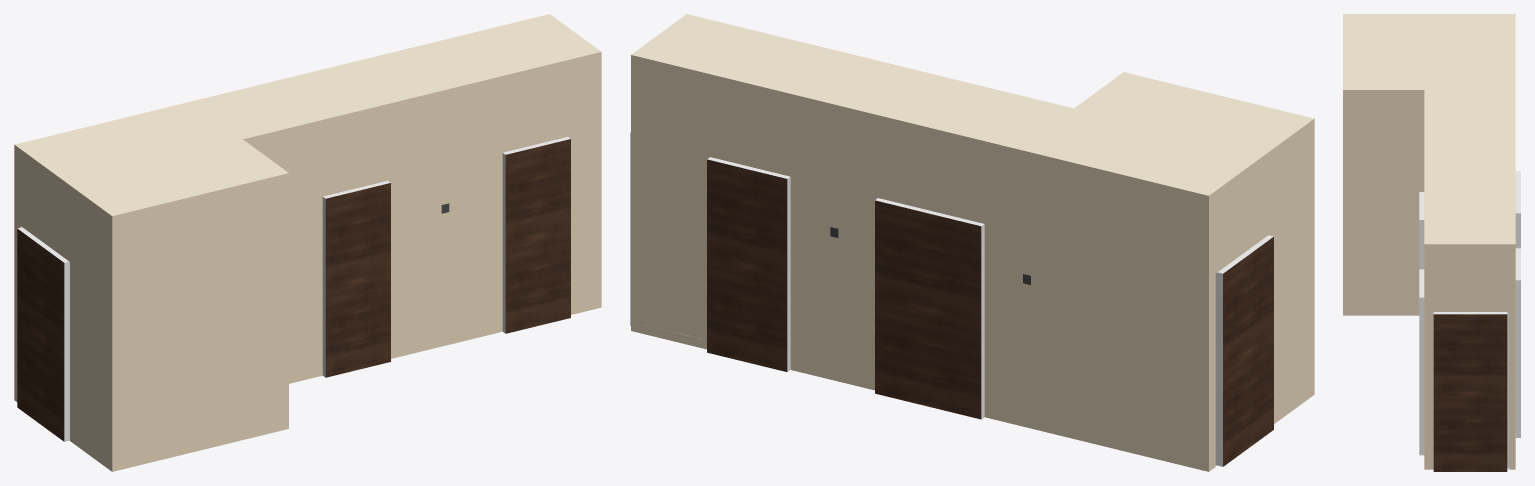
File: Corridor.gltf
The picture shows the model from 3 angles, left to right: view 1: azimuth 30°, elevation 25°; view 2: azimuth 150°, elevation 25°; view 3: azimuth 270°, elevation 25°; orthographic projection. The views are drawn at different scales.
Visible parts, largest first — view 1: Wall_Exterior, Ceiling_Exterior, Door_2_Exterior, Door_3_Exterior, Door_1_Exterior; view 2: Wall_Exterior, Ceiling_Exterior, Door_5_Exterior, Door_4_Exterior, Door_1_Exterior; view 3: Ceiling_Exterior, Wall_Exterior, Door_6_Exterior, Door_4_Exterior, Door_3_Exterior, Door_2_Exterior, Door_5_Exterior.
Boxes of the visible parts, x1,y1,x2,y2 form: Wall_Exterior: (14,52,601,471); Ceiling_Exterior: (15,14,601,216); Door_2_Exterior: (322,180,390,377); Door_3_Exterior: (502,137,570,333); Door_1_Exterior: (17,226,69,441); Wall_Exterior: (631,55,1314,471); Ceiling_Exterior: (631,14,1313,195); Door_5_Exterior: (875,198,984,419); Door_4_Exterior: (707,157,790,371); Door_1_Exterior: (1215,235,1273,466); Ceiling_Exterior: (1343,14,1515,244); Wall_Exterior: (1343,90,1515,469); Door_6_Exterior: (1433,312,1509,471); Door_4_Exterior: (1515,248,1520,437); Door_3_Exterior: (1419,269,1424,455); Door_2_Exterior: (1419,192,1424,269); Door_5_Exterior: (1515,171,1520,248).
Size of the model in its own units: 6.7 by 3 by 2.14.
Materials: 17 (4 with a texture image).
